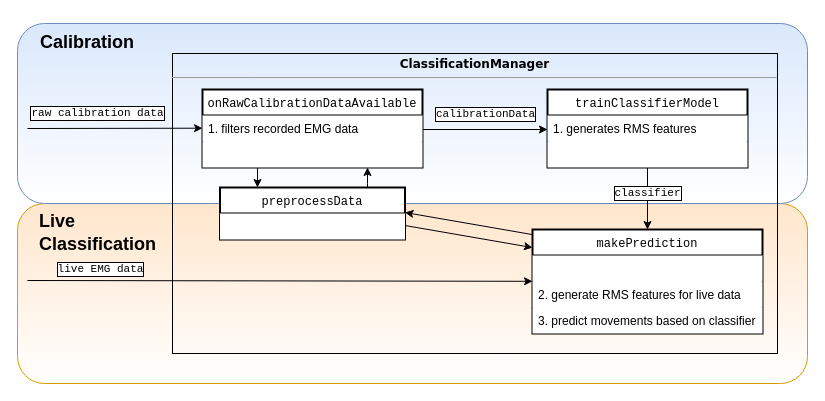
Some shapes in this 825 by 401 pixel diagram are drawn without their labels. The shapes that lost their labels are listed below. From the top down, each one's centre as x and y in pixels, then its label:
At (x=312, y=154): "2. populates internal data structure".
At (x=647, y=154): "2. fits SVM classifier model".
At (x=312, y=226): "applies filter to recorded data".
At (x=647, y=268): "1. filter live EMG data".
